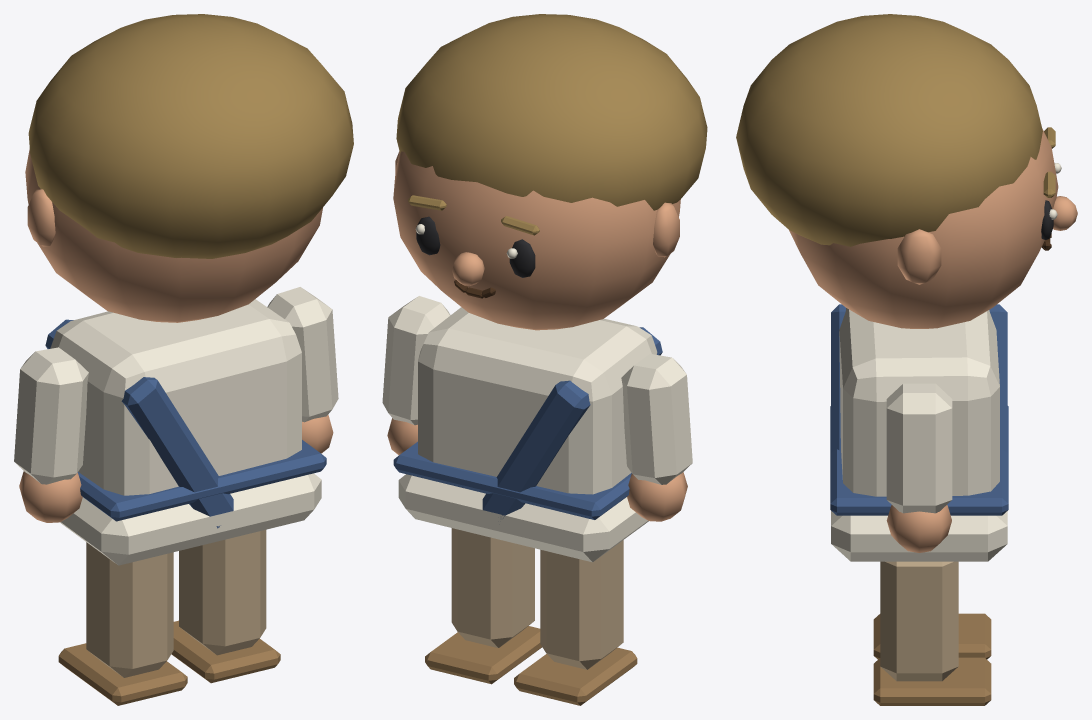
The model's file is cultist.fbx.
3 renders of one model, left to right at view 1: azimuth 30°, elevation 25°; view 2: azimuth 150°, elevation 25°; view 3: azimuth 270°, elevation 25°, orthographic. The views are drawn at different scales.
Parts seen in each view (by area): view 1: Head, Body, LegL, LegR, ArmL, ArmR; view 2: Head, Body, LegL, LegR, ArmL, ArmR; view 3: Head, Body, LegR, ArmR, LegL.
Boxes of the visible parts, bbox=[...] form: Head: bbox=[25, 14, 353, 322]; Body: bbox=[45, 299, 326, 565]; LegL: bbox=[58, 542, 187, 705]; LegR: bbox=[171, 529, 280, 683]; ArmL: bbox=[14, 347, 88, 522]; ArmR: bbox=[267, 287, 338, 453]; Head: bbox=[393, 14, 707, 330]; Body: bbox=[393, 307, 662, 562]; LegL: bbox=[514, 540, 637, 705]; LegR: bbox=[425, 528, 541, 684]; ArmL: bbox=[621, 353, 692, 521]; ArmR: bbox=[382, 296, 450, 455]; Head: bbox=[736, 14, 1077, 328]; Body: bbox=[830, 304, 1008, 561]; LegR: bbox=[873, 561, 991, 705]; ArmR: bbox=[886, 383, 952, 552]; LegL: bbox=[873, 613, 991, 659].
Bounding box in the file's own units: 0.4242 × 0.418 × 0.8555.
